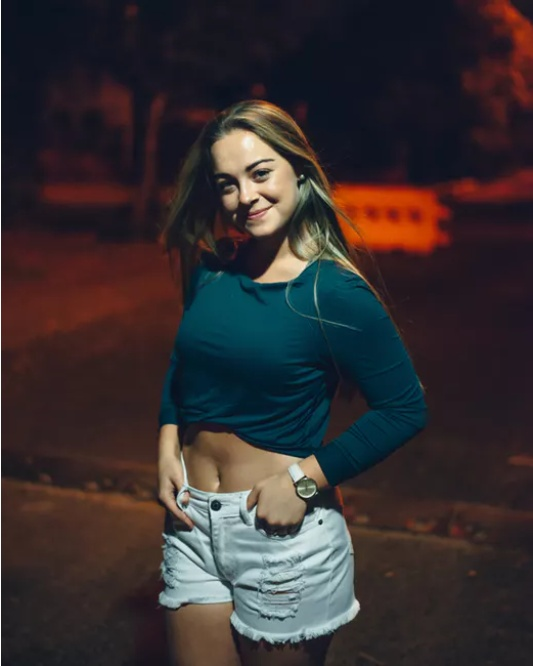face: (209, 132, 296, 238)
